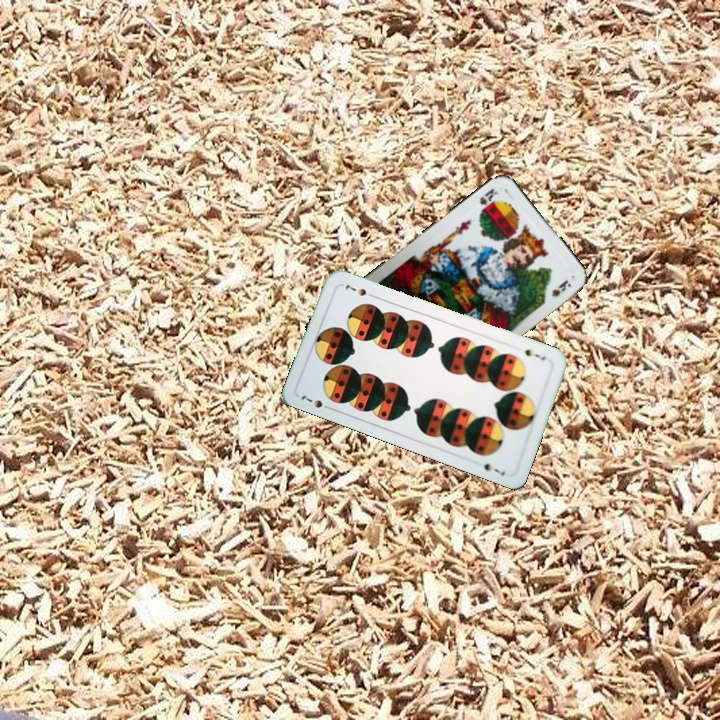S7: (297, 391, 335, 412), (518, 345, 548, 363)
SK: (475, 184, 502, 208)
